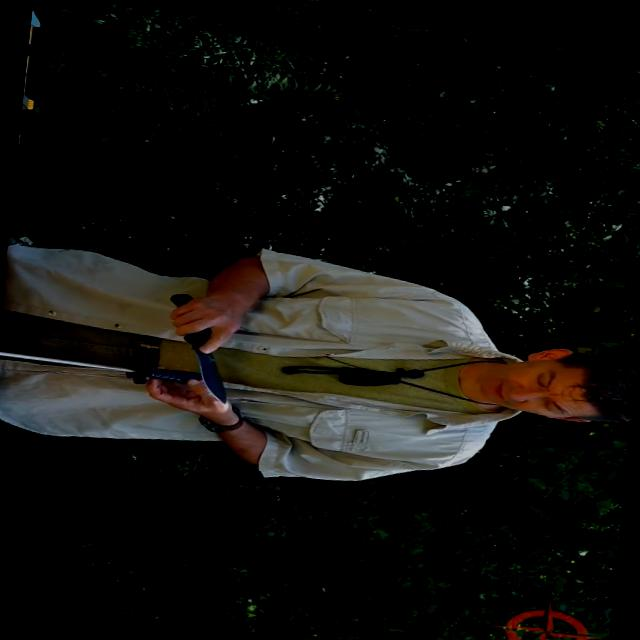knife: (155, 289, 256, 407)
